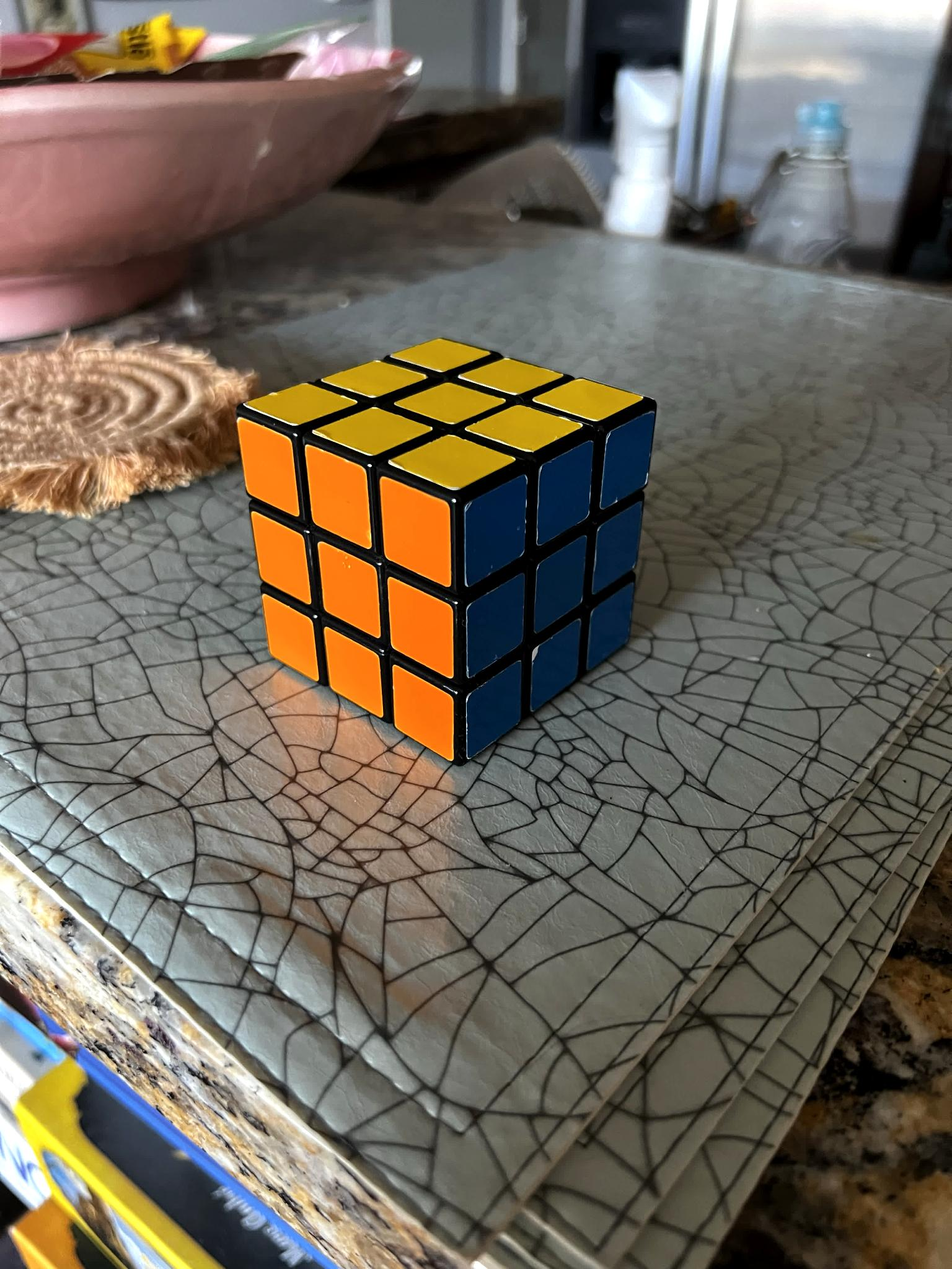rubiks_cube: (238, 337, 654, 761)
